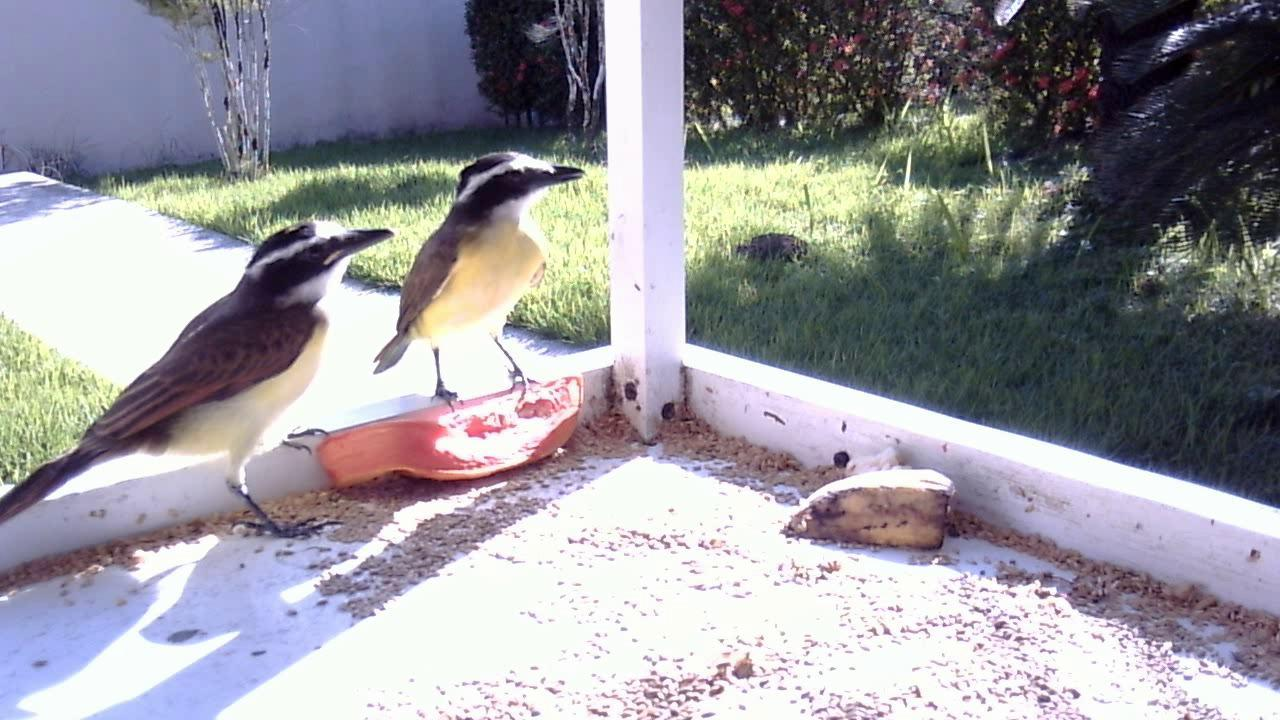bem_te_vi: (1, 192, 408, 572), (360, 145, 590, 421)
